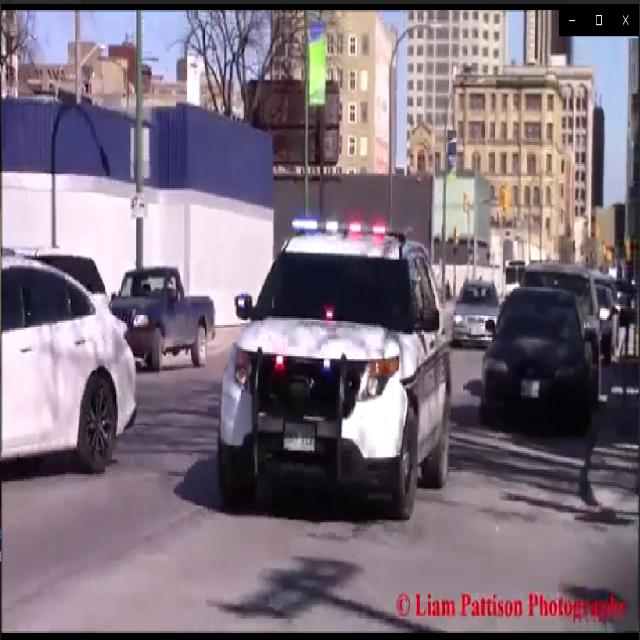emergency: (210, 204, 454, 522)
